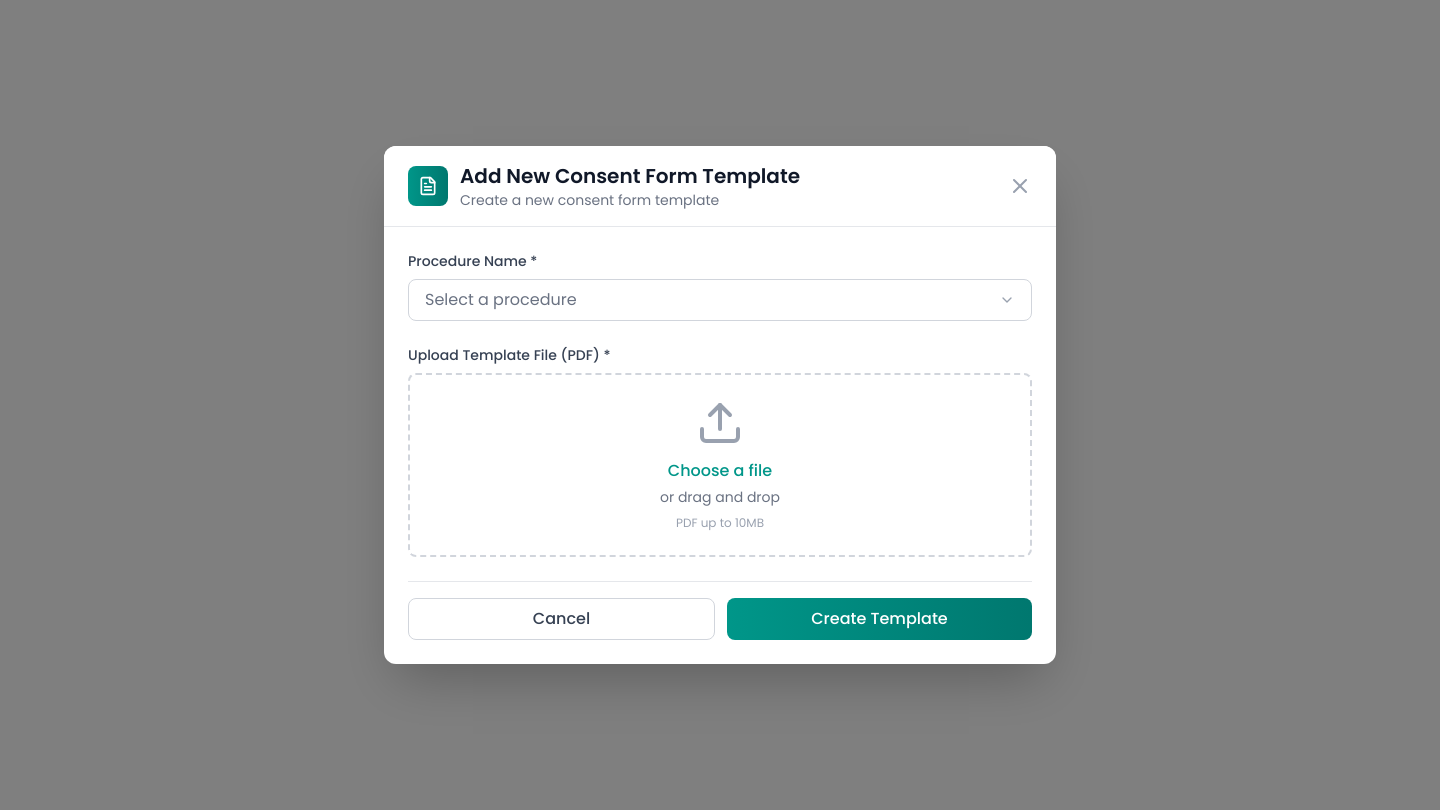
Test: AddConsentFormModal › Form Submission › should validate procedure name is required
Click the button "Create Template" at (880, 619), box [727,598,1032,640]
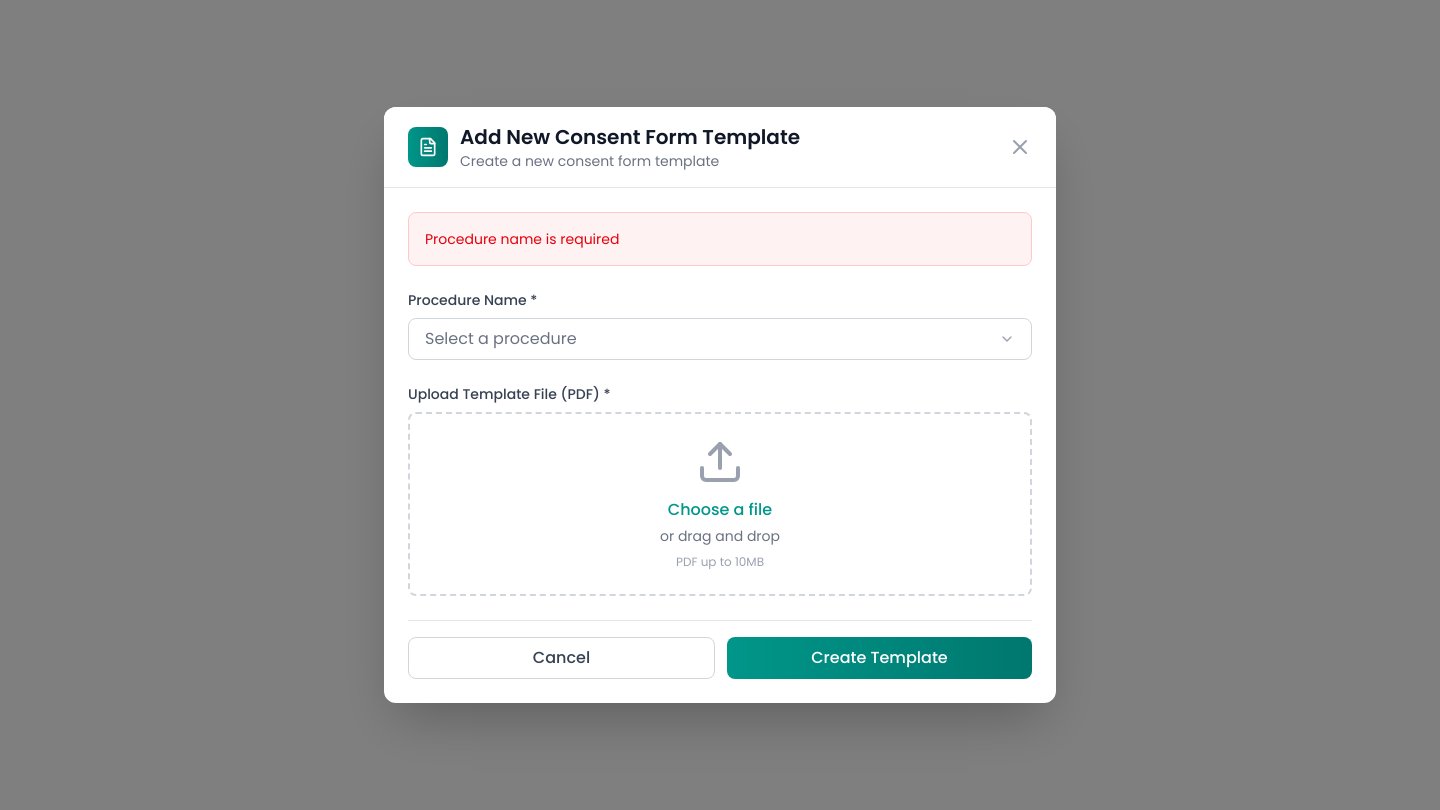
Result: the text "Procedure name is required" is shown at [425,229,619,249]
